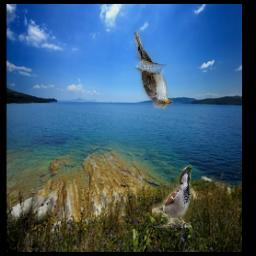Cuckoo: (133, 31, 172, 110)
Sparrow: (151, 166, 191, 229)
